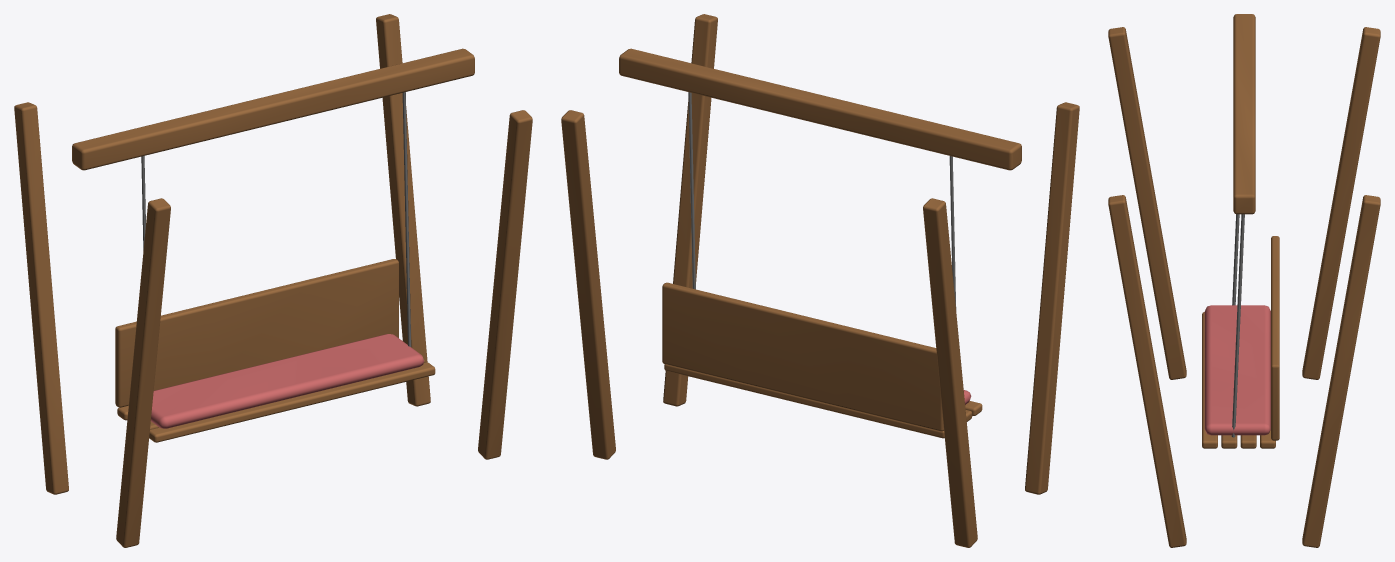
The model's file is furn_od_porch_swing.glb.
3 views of the same model, side by side, from view 1: azimuth 30°, elevation 25°; view 2: azimuth 150°, elevation 25°; view 3: azimuth 270°, elevation 25° (orthographic). The views are drawn at different scales.
Visible parts, largest first — view 1: furn_od_porch_swing_main; view 2: furn_od_porch_swing_main; view 3: furn_od_porch_swing_main.
Part boxes in pixels (left/top/right/bottom): furn_od_porch_swing_main: left=14, top=14, right=532, bottom=547; furn_od_porch_swing_main: left=561, top=14, right=1079, bottom=547; furn_od_porch_swing_main: left=1108, top=14, right=1380, bottom=547.
Size of the model in its own units: 1.96 by 1.78 by 1.23.
